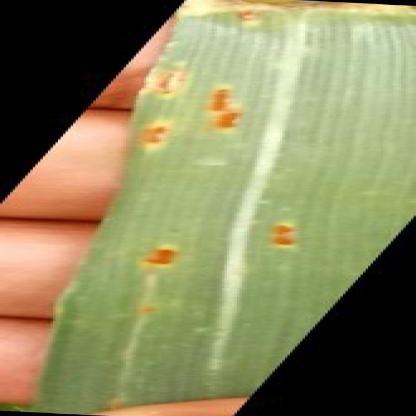Wheat Brown-rust: (149, 65, 264, 152), (250, 201, 328, 262), (135, 237, 206, 276), (224, 7, 264, 29), (142, 301, 177, 315)
